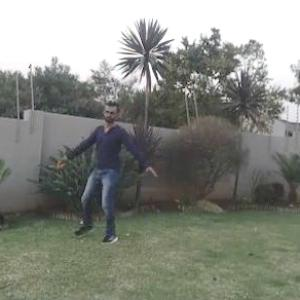land: (53, 97, 176, 248)
